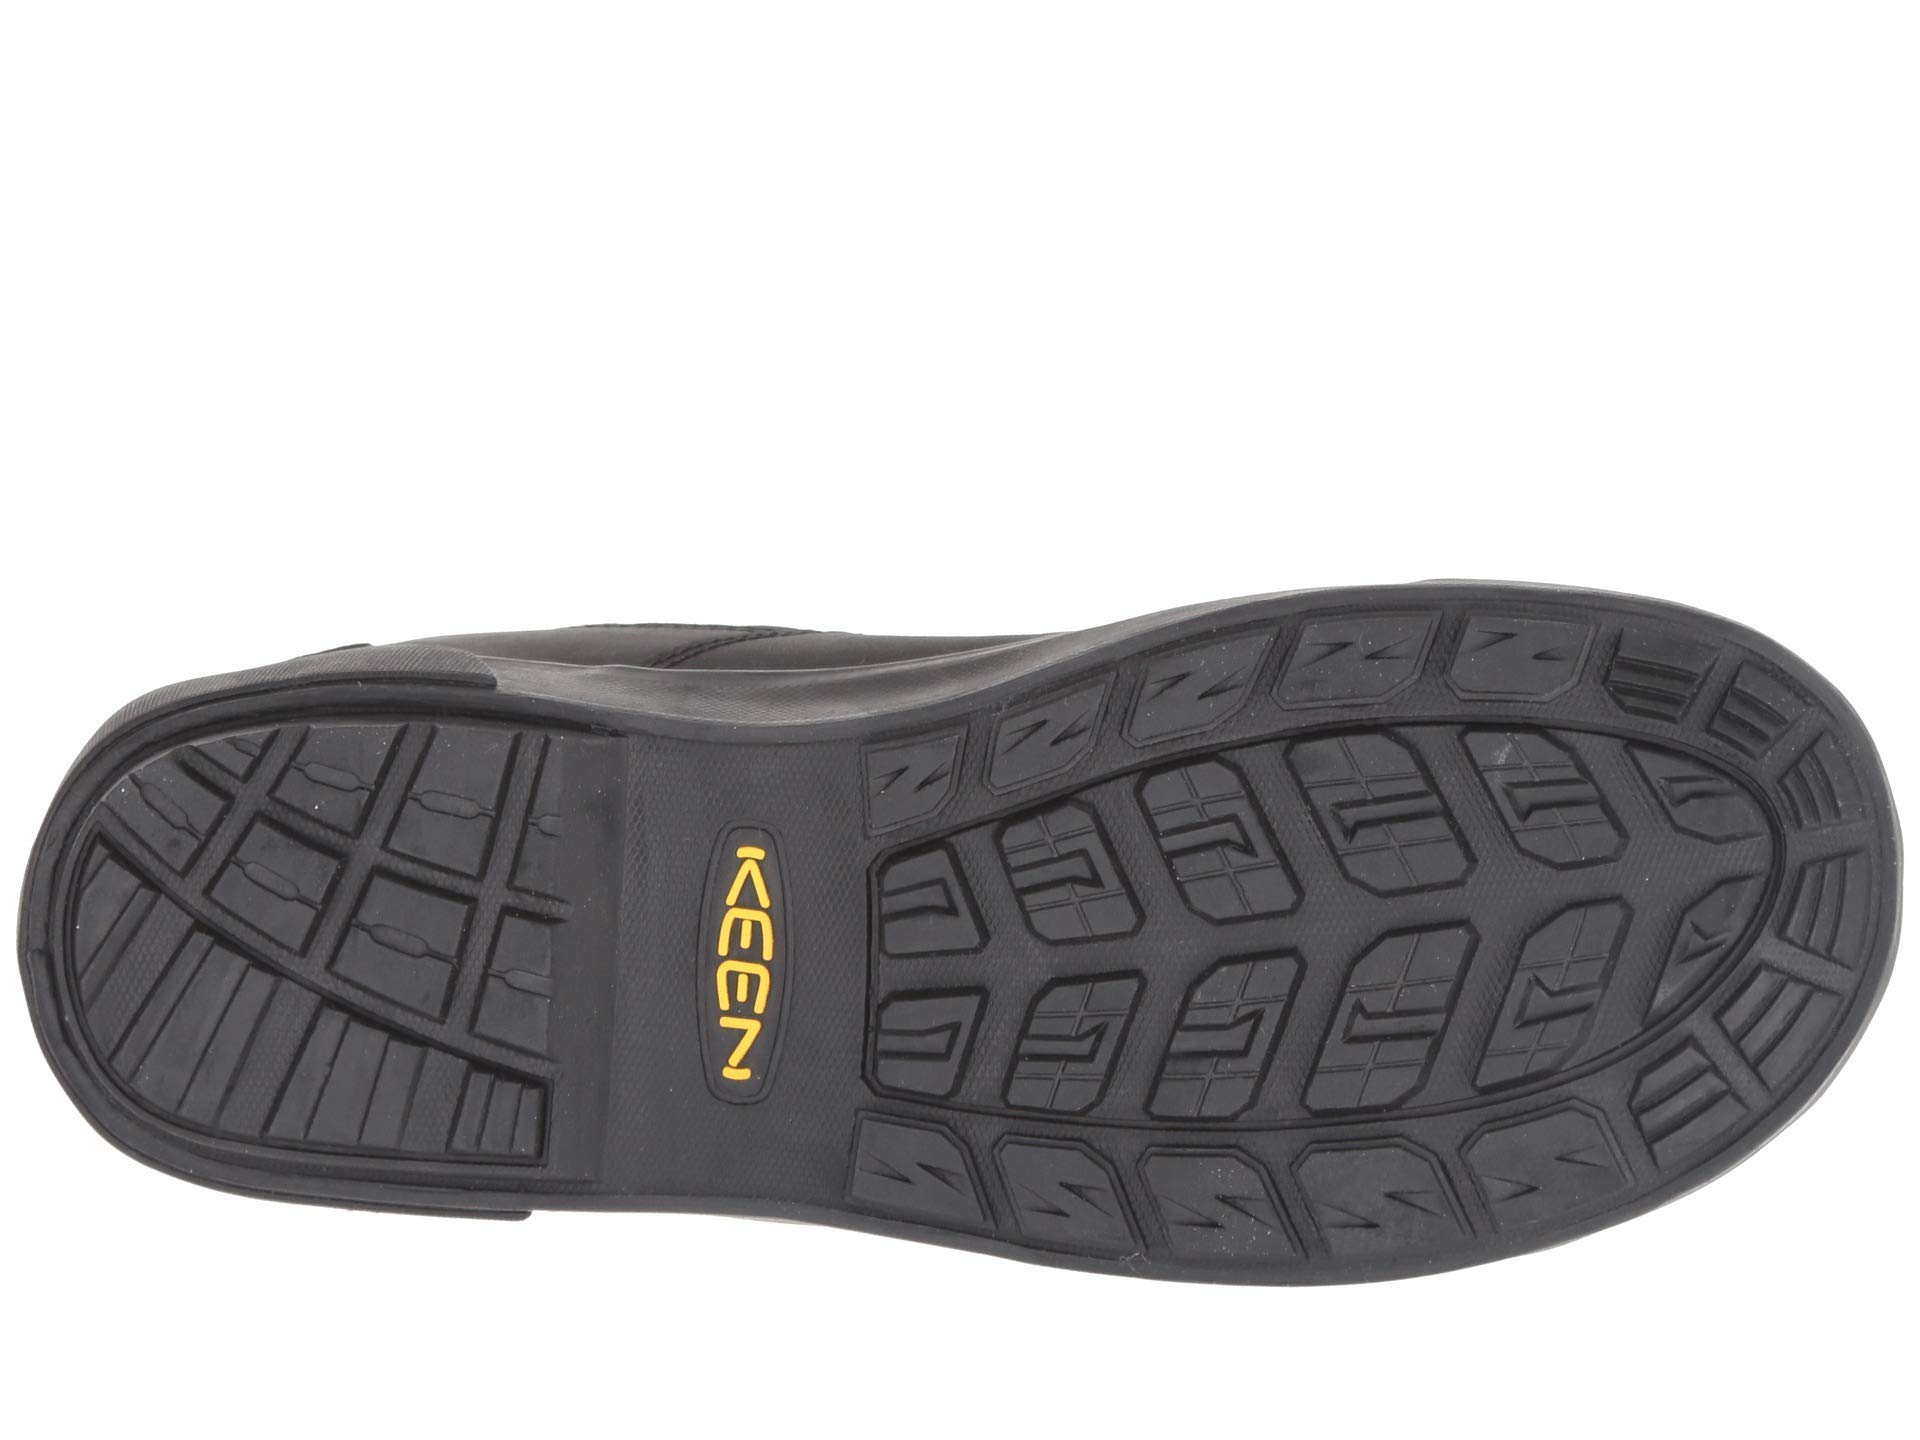quad: (866, 659, 1763, 1204), (91, 734, 561, 1150)
